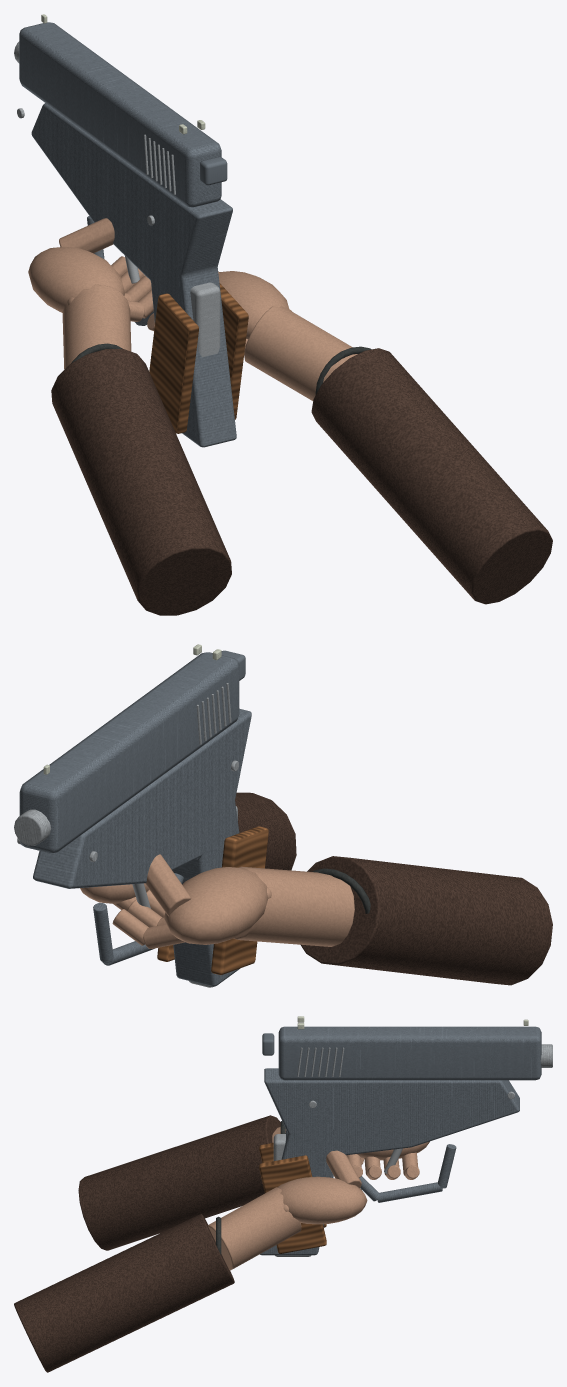
Rendered from hipower.glb.
The picture shows the model from 3 angles, top to bottom: view 1: azimuth 30°, elevation 25°; view 2: azimuth 150°, elevation 25°; view 3: azimuth 270°, elevation 25°; orthographic projection. The views are drawn at different scales.
Visible parts, largest first — view 1: hipower__HAND_L, hipower__HAND_R, hipower__BODY, hipower__BOLT, hipower__MAGAZINE; view 2: hipower__HAND_L, hipower__BODY, hipower__BOLT, hipower__HAND_R; view 3: hipower__HAND_R, hipower__BODY, hipower__HAND_L, hipower__BOLT.
Boxes of the visible parts, box(x1,y1,x2,y2) form: hipower__HAND_L: box(28, 218, 231, 615); hipower__HAND_R: box(147, 271, 552, 604); hipower__BODY: box(14, 14, 248, 447); hipower__BOLT: box(19, 22, 221, 207); hipower__MAGAZINE: box(190, 282, 220, 357); hipower__HAND_L: box(112, 854, 552, 985); hipower__BODY: box(14, 644, 268, 986); hipower__BOLT: box(19, 652, 239, 853); hipower__HAND_R: box(80, 792, 296, 910); hipower__HAND_R: box(14, 1150, 367, 1372); hipower__BODY: box(259, 1016, 552, 1255); hipower__HAND_L: box(78, 1115, 429, 1250); hipower__BOLT: box(278, 1026, 541, 1080).
Size of the model in its own units: 0.3294 by 0.3301 by 0.5433.
7 materials, 7 textured.
